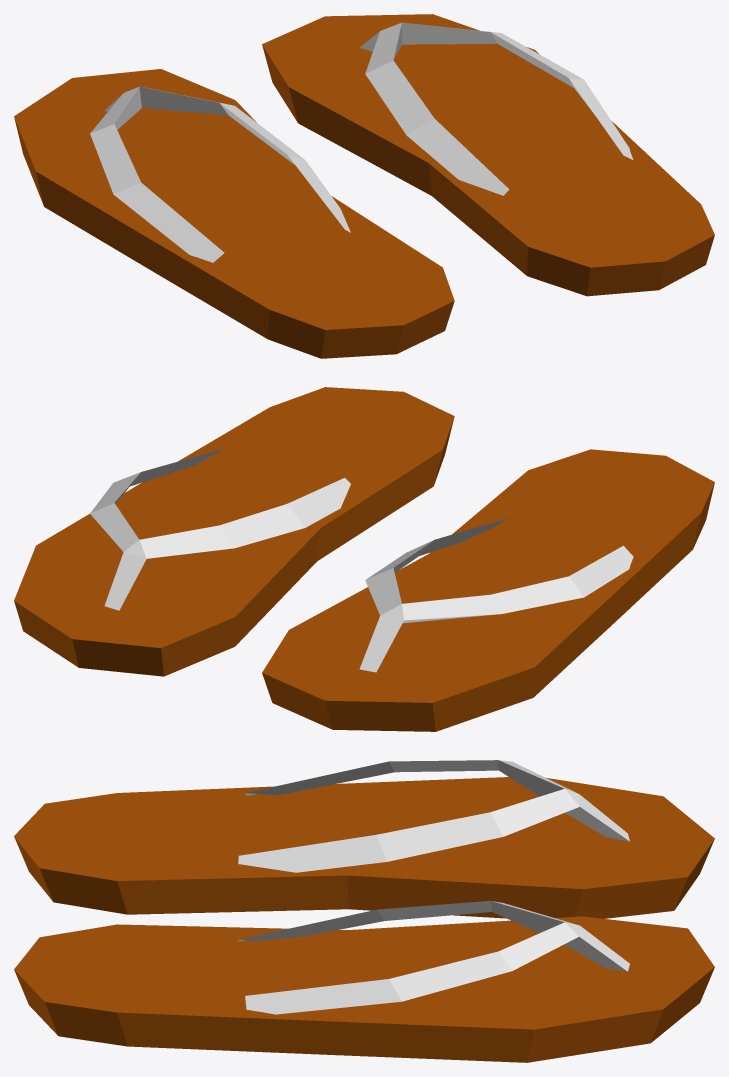
The model's file is flipFlops.fbx.
3 renders of one model, top to bottom at view 1: azimuth 30°, elevation 25°; view 2: azimuth 150°, elevation 25°; view 3: azimuth 270°, elevation 25°, orthographic. The views are drawn at different scales.
Visible parts, largest first — view 1: flipFlops; view 2: flipFlops; view 3: flipFlops.
Boxes of the visible parts, bbox=[...] form: flipFlops: bbox=[14, 14, 714, 358]; flipFlops: bbox=[14, 387, 714, 731]; flipFlops: bbox=[14, 760, 714, 1062].
Bounding box in the file's own units: 0.2839 × 0.3316 × 0.0433.
